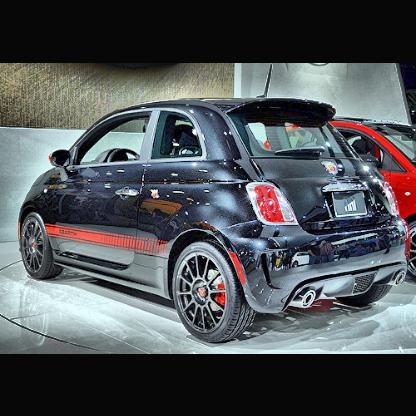FIAT 500 Abarth 2012: (18, 66, 412, 346)
